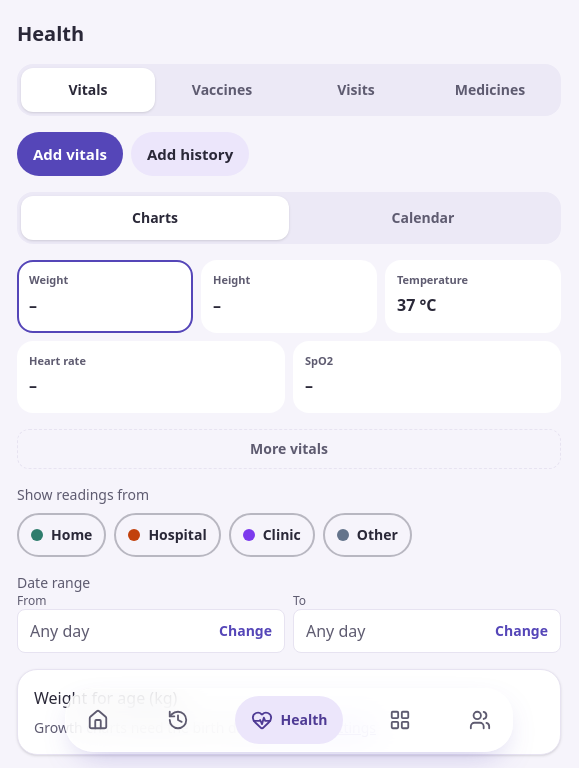
the charts keep head circumference and breathing rate under More vitals
Check: the tab "Head" is not shown
Check: the tab "Breathing rate" is not shown
Click the button "More vitals": (289, 449) [17,429,561,469]
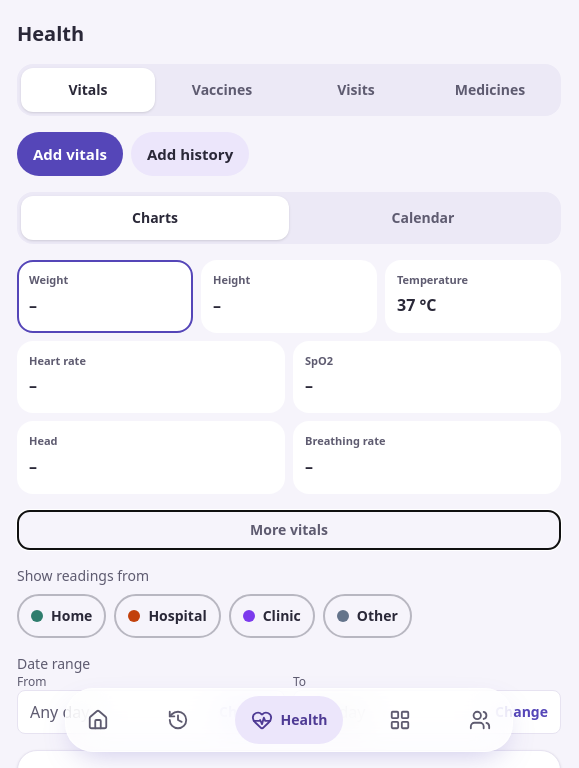
Click the tab "Breathing rate –": (345, 440) [293,421,561,494]
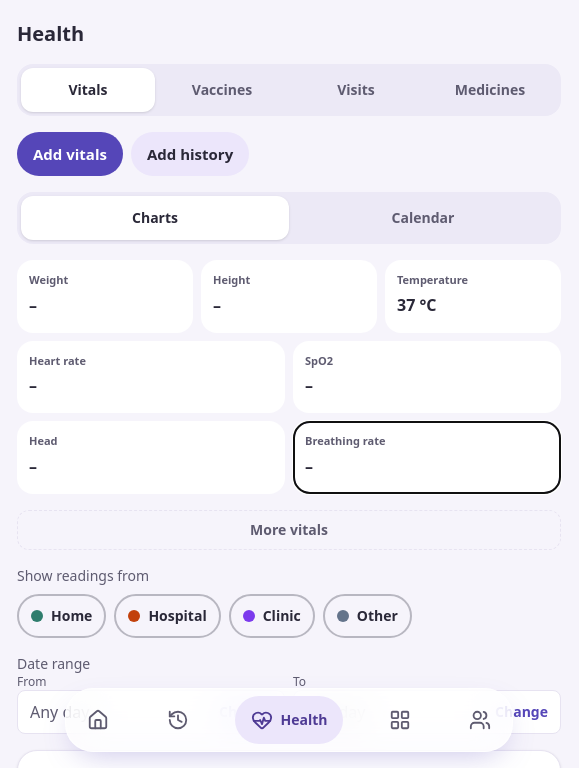
Click the tab "Head –": (43, 440) [17,421,285,494]
(page scrolled)
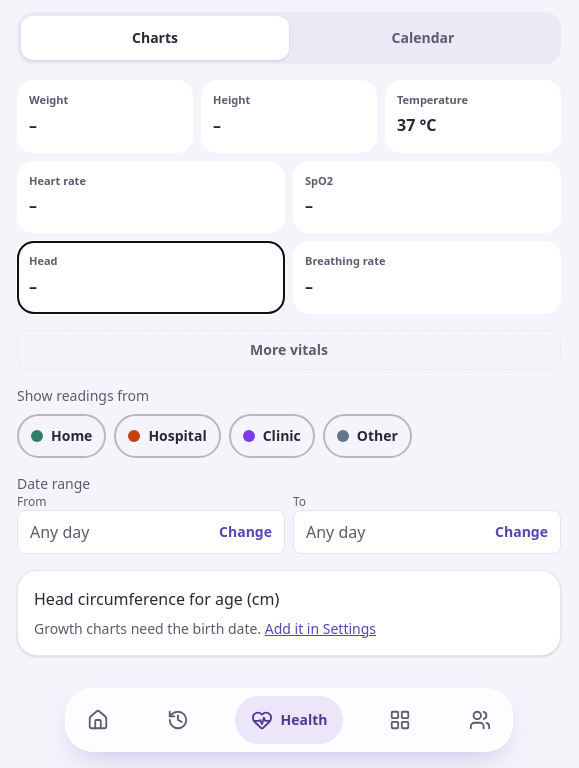
Check: the element "Head circumference for age" is shown, box [17,570,561,656]
